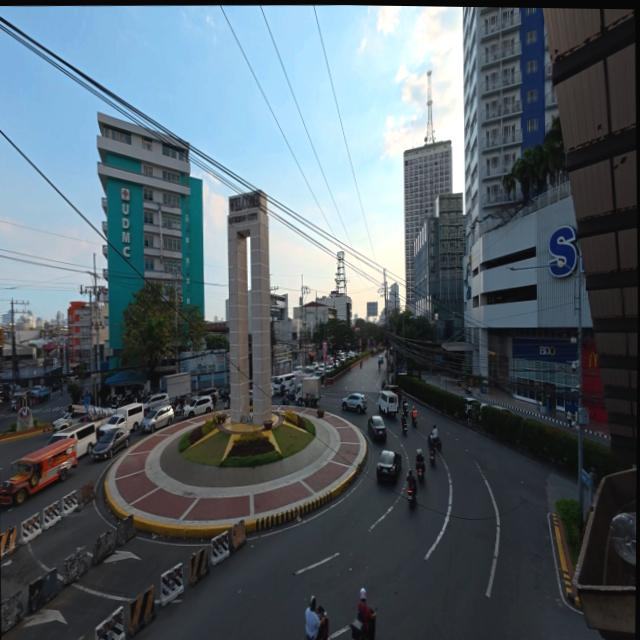Jeepneys: (0, 436, 77, 506)
car: (93, 429, 130, 459), (142, 405, 174, 432), (376, 451, 401, 483), (184, 395, 214, 418), (99, 413, 126, 436), (143, 392, 169, 414), (367, 415, 387, 441), (342, 393, 367, 413), (52, 413, 74, 431), (200, 387, 218, 404), (465, 398, 478, 416), (491, 404, 512, 414), (377, 353, 383, 363)
motorcycle: (351, 619, 375, 639), (316, 606, 328, 639), (429, 433, 442, 453), (407, 487, 416, 508), (417, 462, 425, 480), (174, 403, 183, 417), (435, 438, 442, 453), (223, 395, 230, 409), (430, 447, 435, 466), (402, 416, 407, 434), (465, 385, 473, 395), (403, 401, 408, 414), (412, 416, 417, 428)
trucks: (161, 373, 191, 400), (295, 376, 321, 407)
vans: (47, 422, 97, 456), (99, 404, 143, 435), (117, 403, 143, 432), (182, 395, 214, 418), (98, 413, 126, 438), (143, 392, 169, 414), (272, 372, 295, 394), (379, 391, 398, 415)
